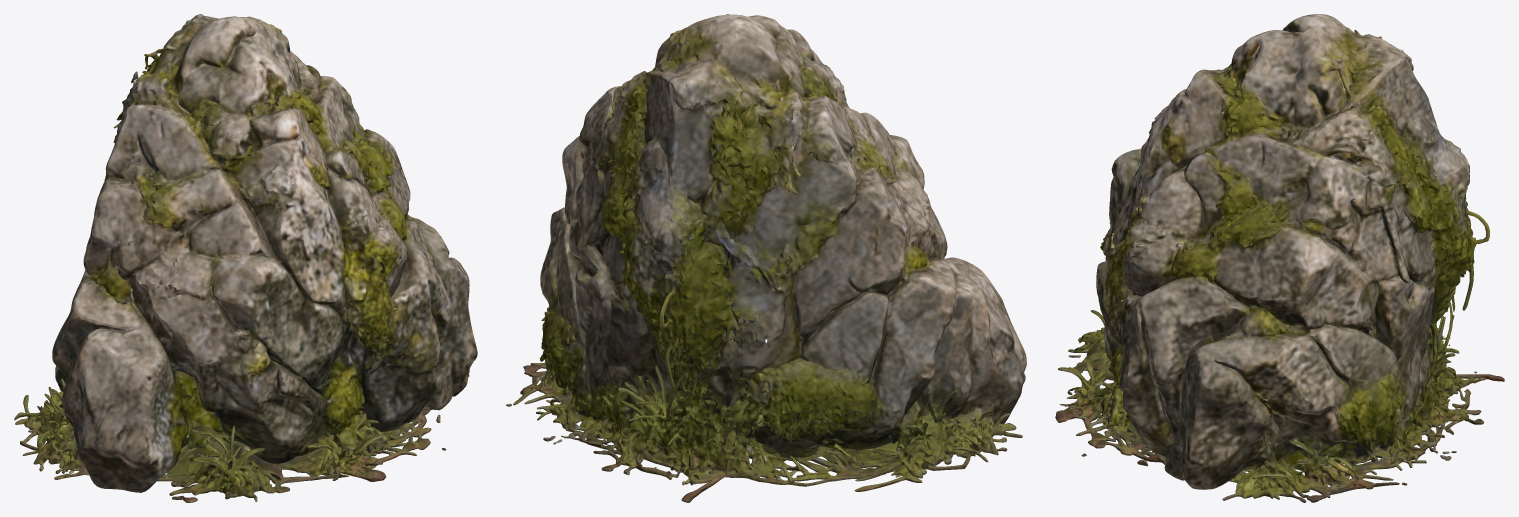
File: Boulder_02.fbx
3 renders of one model, left to right at view 1: azimuth 30°, elevation 25°; view 2: azimuth 150°, elevation 25°; view 3: azimuth 270°, elevation 25°, orthographic. The views are drawn at different scales.
Visible parts, largest first — view 1: geometry_0; view 2: geometry_0; view 3: geometry_0.
Boxes of the visible parts, bbox=[...] form: geometry_0: bbox=[14, 14, 477, 502]; geometry_0: bbox=[506, 14, 1026, 502]; geometry_0: bbox=[1055, 14, 1504, 502].
Size of the model in its own units: 103 by 90 by 93.04.
